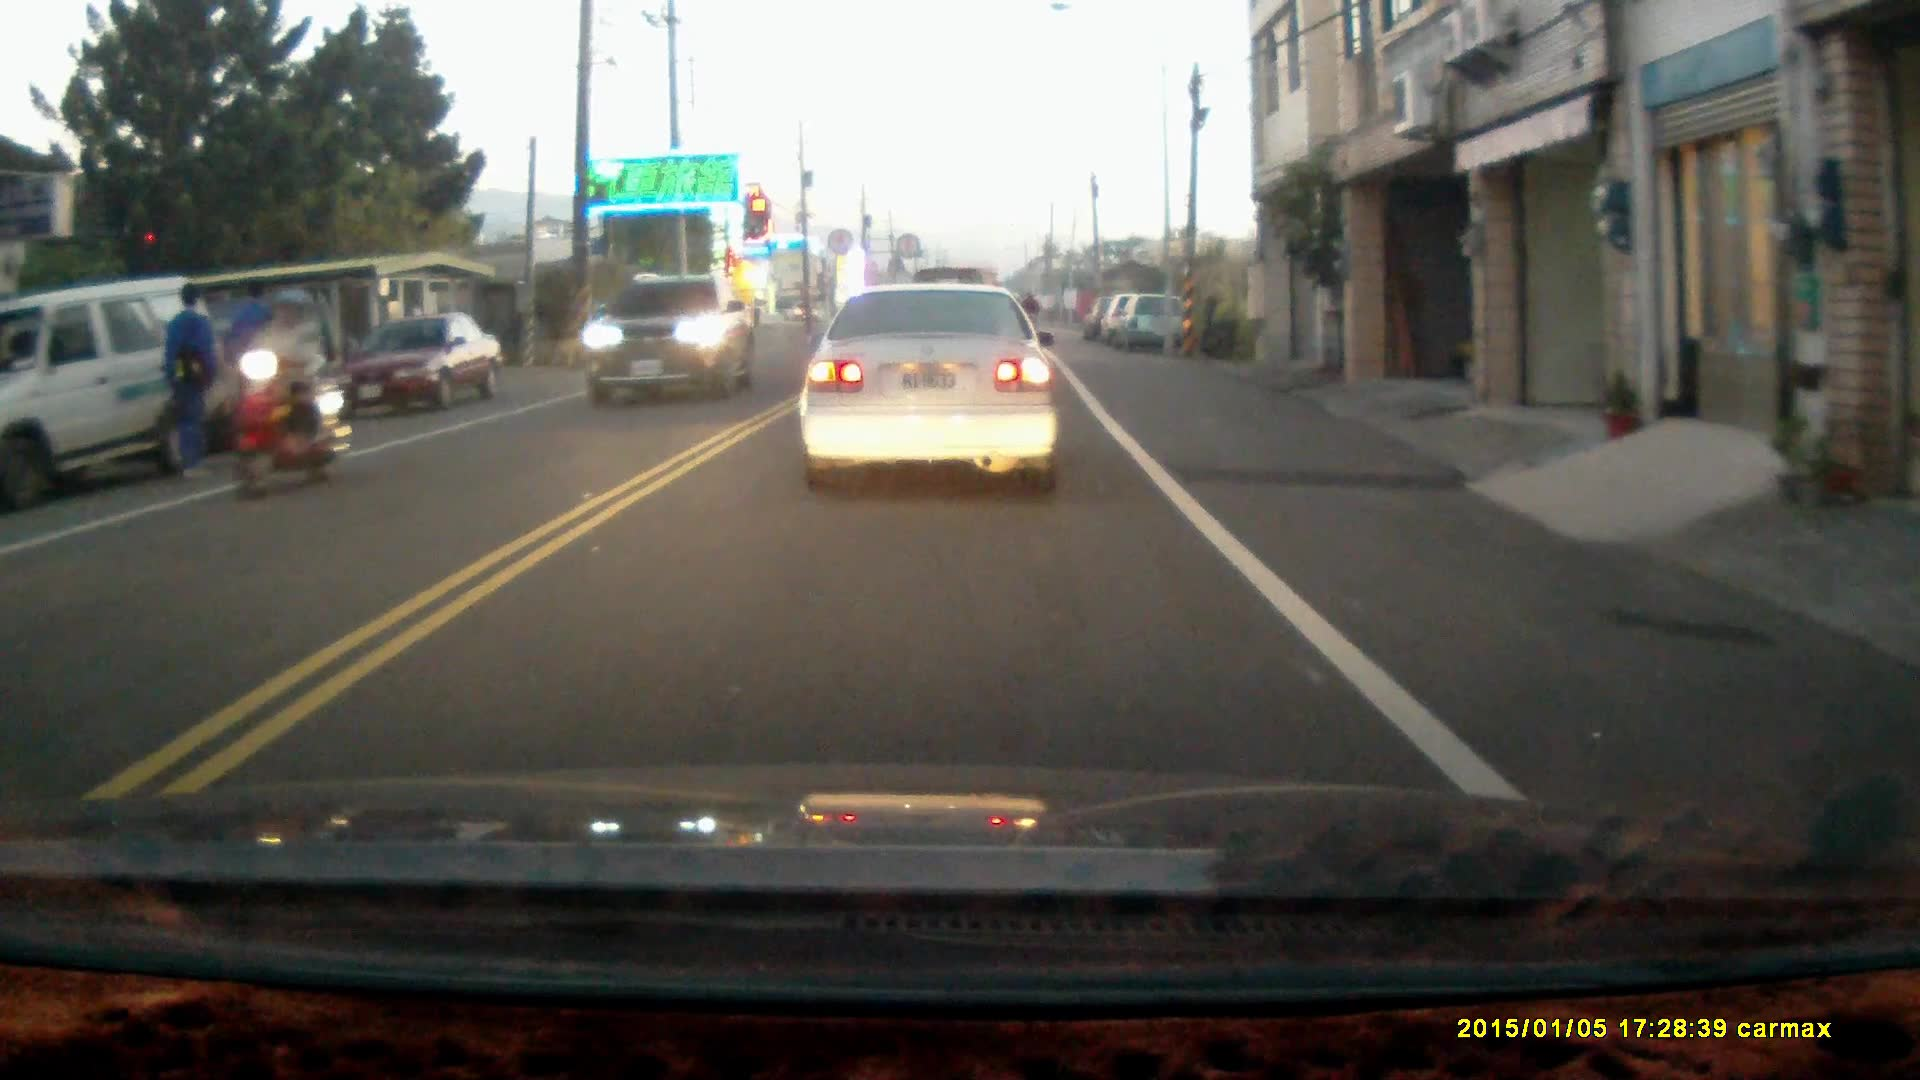pedestrian: (221, 277, 288, 471), (155, 285, 220, 480)
rider: (227, 282, 355, 497)
vehicle: (799, 284, 1064, 501), (1, 281, 221, 505), (82, 318, 325, 444), (583, 272, 755, 412), (336, 313, 508, 418), (1114, 294, 1195, 358)
